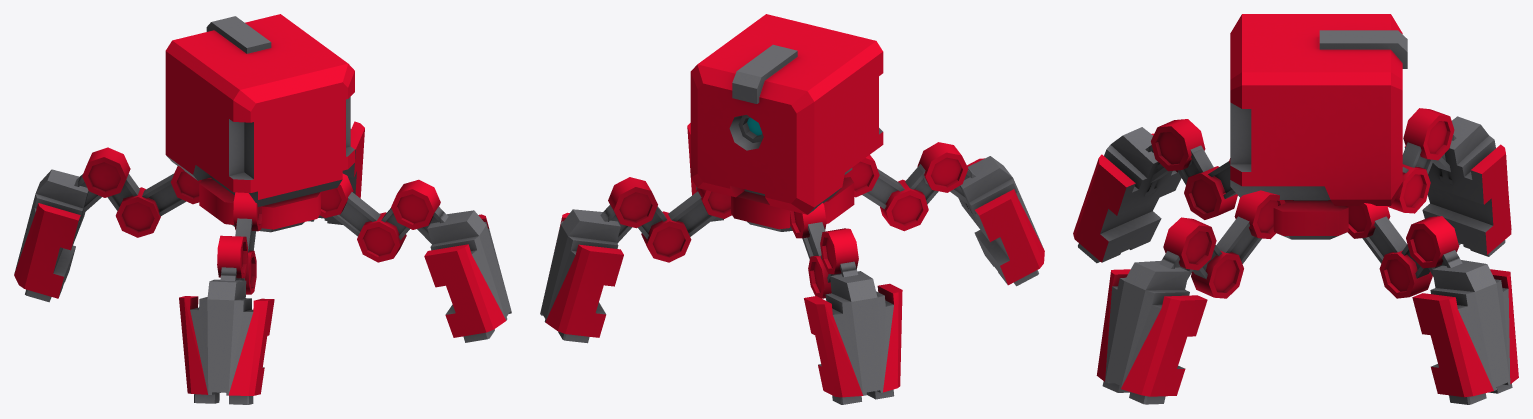
The model's file is Monster1_Attack25.obj.
3 renders of one model, left to right at view 1: azimuth 30°, elevation 25°; view 2: azimuth 150°, elevation 25°; view 3: azimuth 270°, elevation 25°, orthographic. The views are drawn at different scales.
Parts seen in each view (by area): view 1: Box006, Object021, Object017, Object025, Object020, Object028, Object027, Object018, Object019, Object026, Object024, Object022 (+2 smaller); view 2: Box006, Object025, Object013, Object021, Object016, Object023, Object024, Object015, Object014, Object028, Object022, Object026 (+1 smaller); view 3: Box006, Object013, Object017, Object021, Object025, Object018, Object023, Object020, Object016, Object024, Object014, Object028 (+4 smaller).
Boxes of the visible parts, x1,y1,x2,y2 form: Box006: [165, 14, 354, 232]; Object021: [179, 279, 274, 404]; Object017: [424, 210, 511, 342]; Object025: [14, 169, 88, 302]; Object020: [391, 179, 448, 243]; Object028: [74, 147, 130, 214]; Object027: [107, 174, 160, 237]; Object018: [320, 173, 380, 236]; Object019: [357, 208, 409, 262]; Object026: [142, 166, 211, 216]; Object024: [217, 235, 247, 280]; Object022: [233, 192, 262, 252]; Box006: [690, 14, 883, 231]; Object025: [804, 271, 902, 404]; Object013: [540, 209, 623, 343]; Object021: [958, 156, 1044, 286]; Object016: [600, 177, 657, 243]; Object023: [880, 164, 938, 231]; Object024: [917, 142, 975, 204]; Object015: [638, 206, 691, 262]; Object014: [668, 188, 731, 236]; Object028: [820, 228, 858, 277]; Object022: [844, 155, 904, 209]; Object026: [790, 203, 826, 259]; Box006: [1230, 14, 1407, 239]; Object013: [1412, 260, 1518, 404]; Object017: [1096, 261, 1207, 404]; Object021: [1073, 127, 1181, 263]; Object025: [1404, 116, 1511, 256]; Object018: [1216, 190, 1285, 263]; Object023: [1177, 145, 1237, 219]; Object020: [1159, 217, 1216, 279]; Object016: [1406, 216, 1462, 276]; Object024: [1145, 119, 1205, 182]; Object014: [1345, 203, 1406, 263]; Object028: [1403, 108, 1456, 171].
Size of the model in its own units: 150 by 108 by 153.
